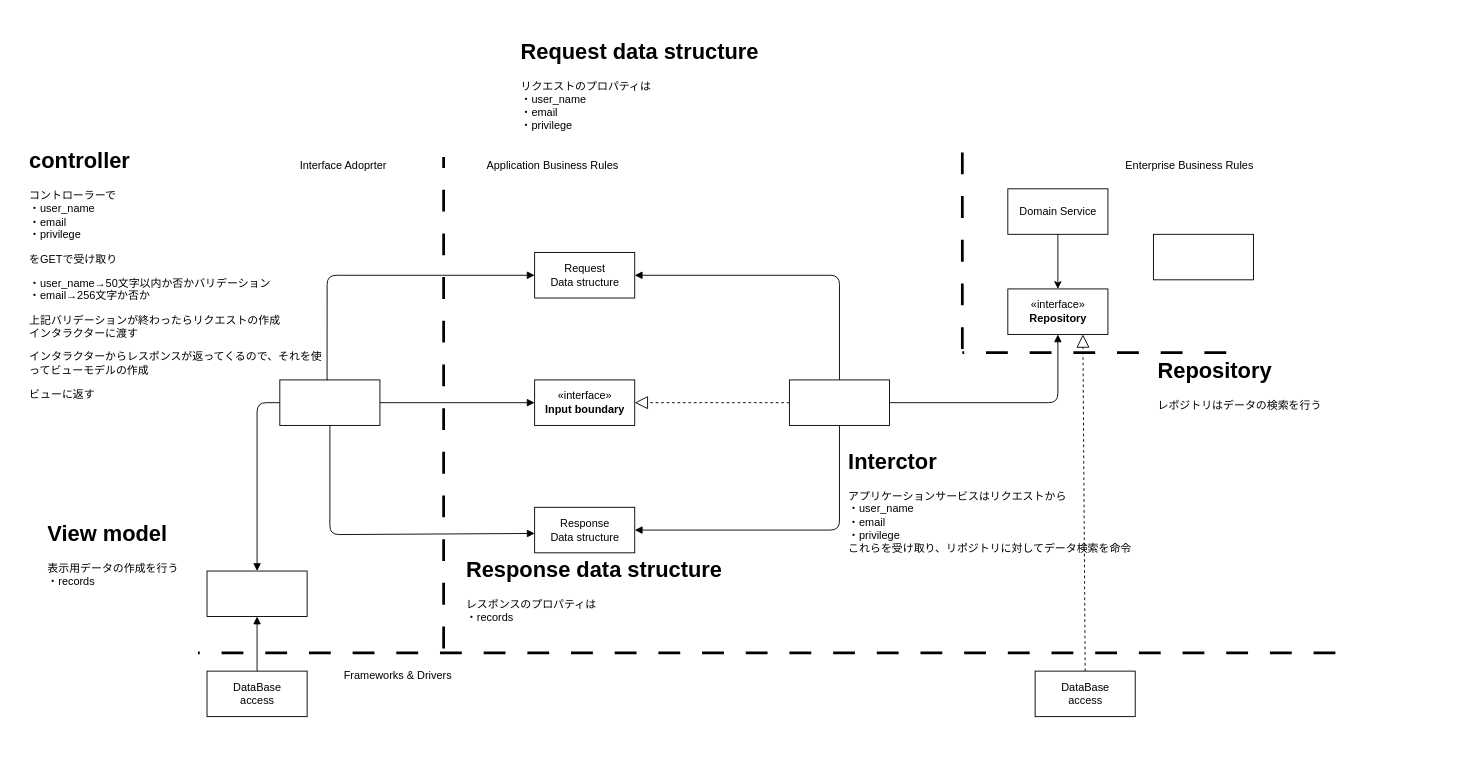
Image size: 1469x759. Some labels were removed from this diagram. Each missing label, with the box of its shape:
Controller: (279, 379, 380, 425)
Entities: (1153, 233, 1254, 280)
ViewModel Data structure: (206, 570, 307, 617)
«interface» Edit UseCase: (789, 379, 890, 425)
